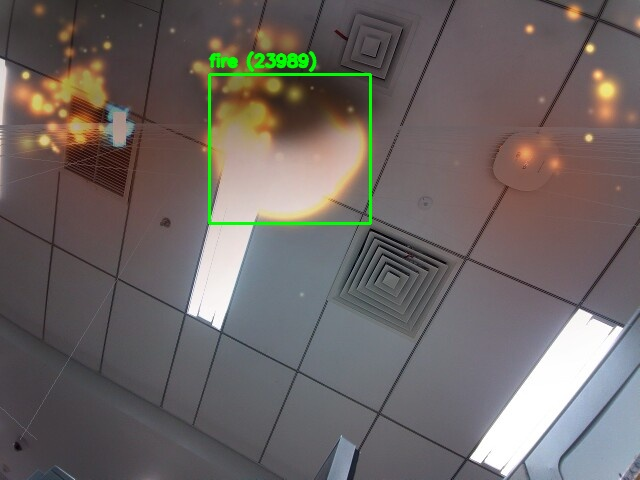fire: (209, 74, 370, 223)
